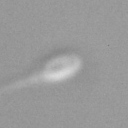normal: (1, 70, 40, 98)
